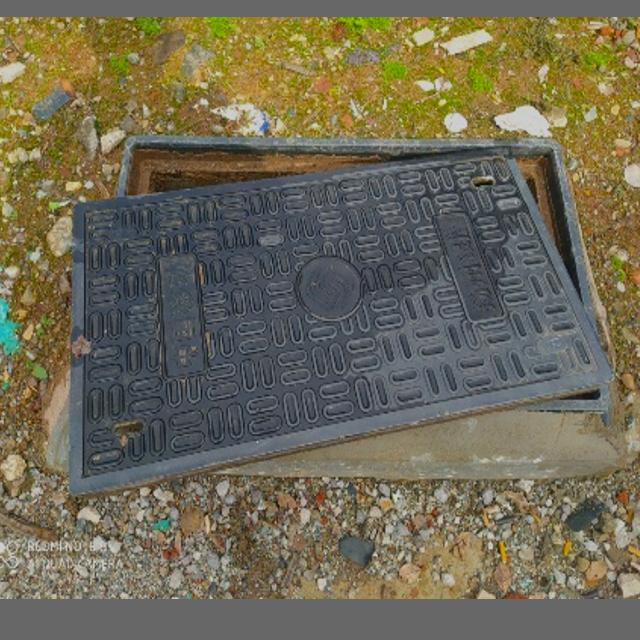uncovered: (68, 135, 609, 489)
